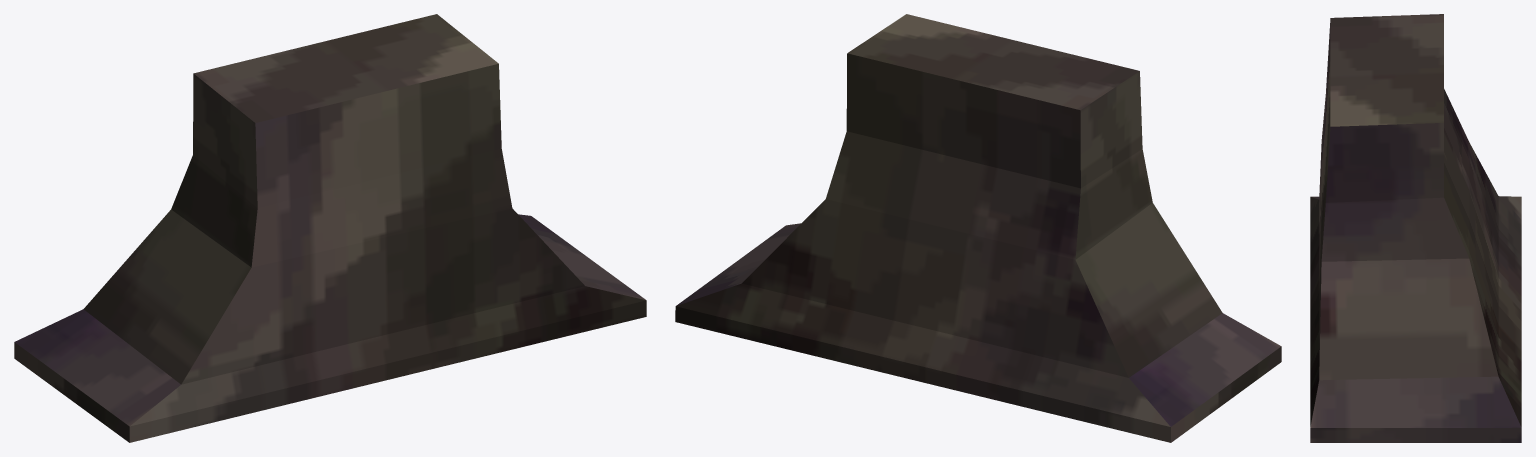
Rendered from SM_VENT.fbx.
3 renders of one model, left to right at view 1: azimuth 30°, elevation 25°; view 2: azimuth 150°, elevation 25°; view 3: azimuth 270°, elevation 25°, orthographic. The views are drawn at different scales.
Visible parts, largest first — view 1: SM_vent.001; view 2: SM_vent.001; view 3: SM_vent.001.
Part boxes in pixels (box(x1,y1,x2,y2)): SM_vent.001: box(14, 14, 646, 442); SM_vent.001: box(675, 14, 1281, 442); SM_vent.001: box(1310, 14, 1521, 442).
Size of the model in its own units: 217 by 113 by 83.74.
